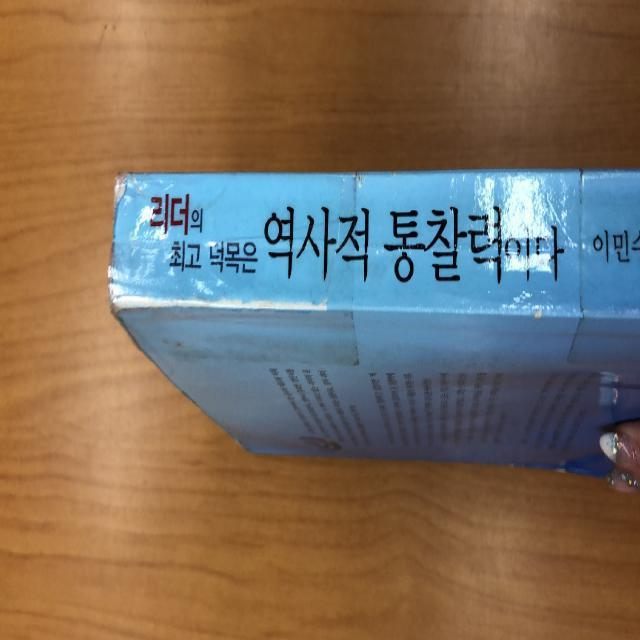Ripped: (104, 279, 328, 322)
Wornout: (104, 168, 135, 258), (120, 321, 151, 360), (529, 304, 549, 325)
